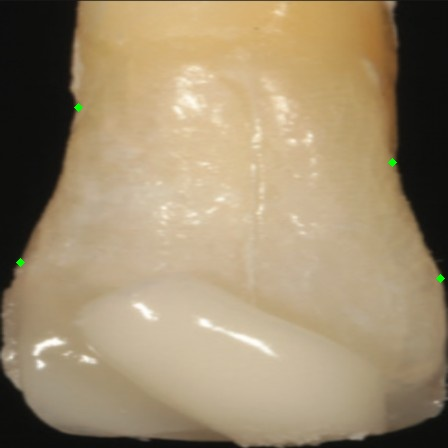coin_1: (78, 107, 98, 127)
coin_2: (20, 262, 40, 282)
coin_3: (392, 162, 412, 182)
coin_4: (440, 278, 448, 298)
